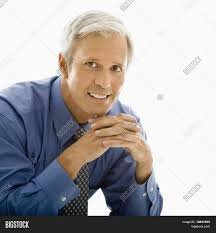white_male: (61, 40, 128, 105)
